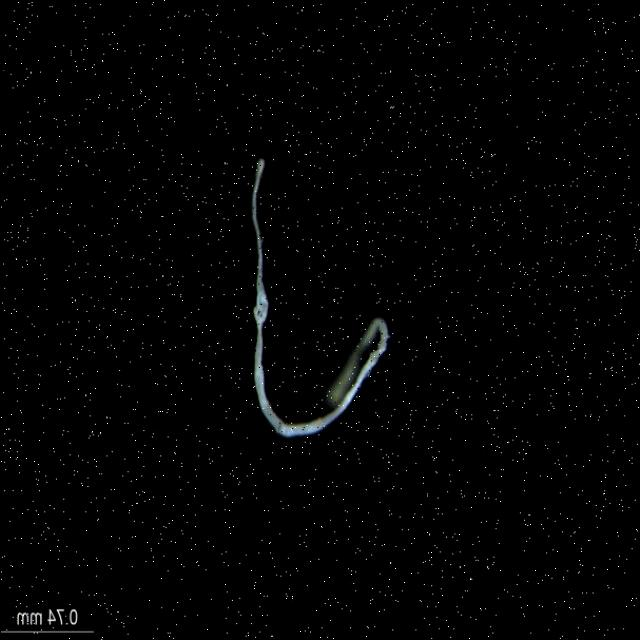Fibre: (250, 154, 396, 442)
